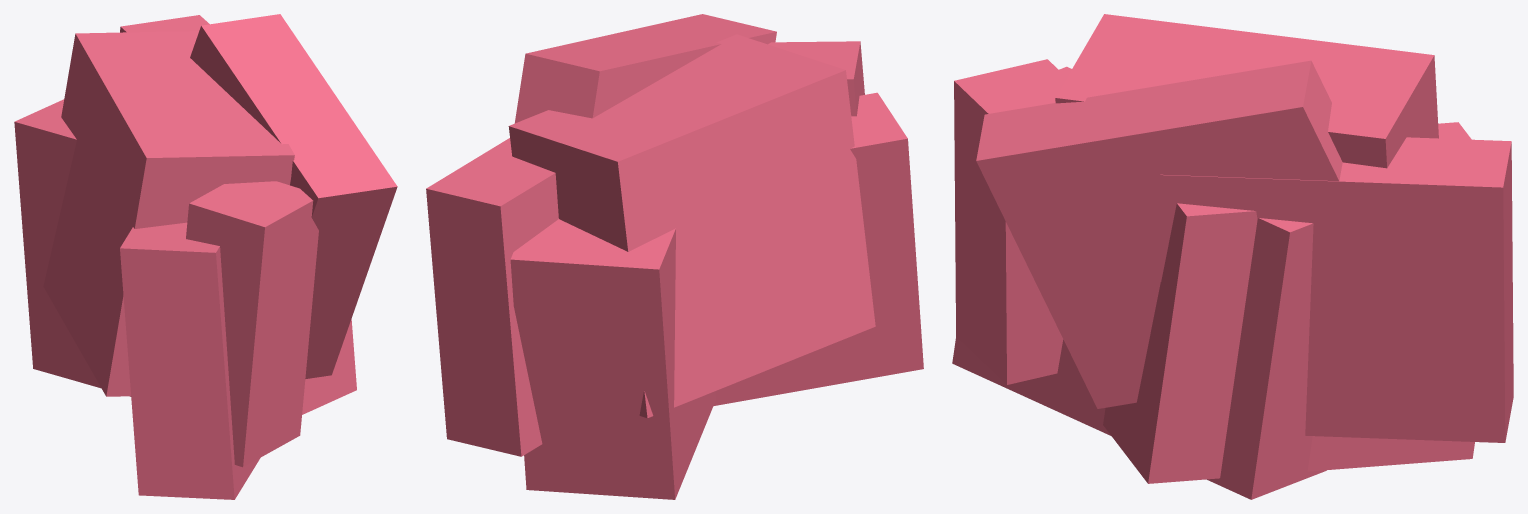
File: IntroRock.fbx
The picture shows the model from 3 angles, left to right: view 1: azimuth 30°, elevation 25°; view 2: azimuth 150°, elevation 25°; view 3: azimuth 270°, elevation 25°; orthographic projection. The views are drawn at different scales.
Visible parts, largest first — view 1: Ground__37_, Ground__42_, Ground__41_, Ground__38_, Ground__40_, Ground__39_; view 2: Ground__37_, Ground__40_, Ground__39_, Ground__41_, Ground__42_, Ground__38_; view 3: Ground__39_, Ground__42_, Ground__40_, Ground__37_, Ground__41_, Ground__38_.
Part boxes in pixels (bbox=[...]): Ground__37_: bbox=[43, 31, 294, 396]; Ground__42_: bbox=[190, 14, 397, 378]; Ground__41_: bbox=[120, 222, 260, 499]; Ground__38_: bbox=[186, 181, 318, 467]; Ground__40_: bbox=[14, 99, 356, 414]; Ground__39_: bbox=[120, 15, 209, 32]; Ground__37_: bbox=[508, 34, 875, 418]; Ground__40_: bbox=[510, 219, 715, 499]; Ground__39_: bbox=[426, 138, 558, 456]; Ground__41_: bbox=[713, 92, 923, 405]; Ground__42_: bbox=[514, 14, 776, 123]; Ground__38_: bbox=[768, 41, 864, 116]; Ground__39_: bbox=[1160, 137, 1513, 442]; Ground__42_: bbox=[976, 60, 1342, 408]; Ground__40_: bbox=[1103, 122, 1474, 483]; Ground__37_: bbox=[1055, 14, 1438, 168]; Ground__41_: bbox=[952, 66, 1326, 499]; Ground__38_: bbox=[954, 59, 1066, 384].
Bounding box in the file's own units: 1727 × 2091 × 2670.
